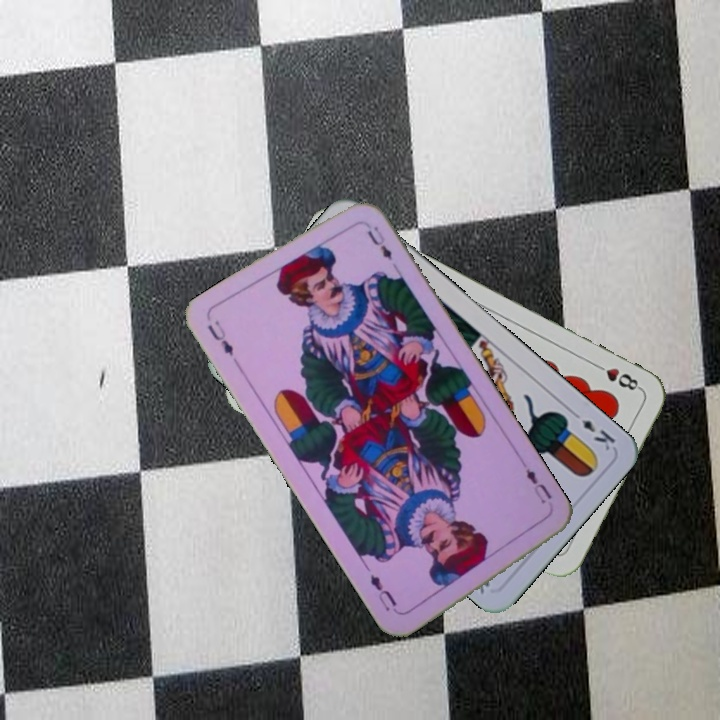EK: (567, 406, 619, 454)
EU: (521, 465, 555, 507), (203, 316, 236, 359)
H8: (589, 359, 644, 393)
